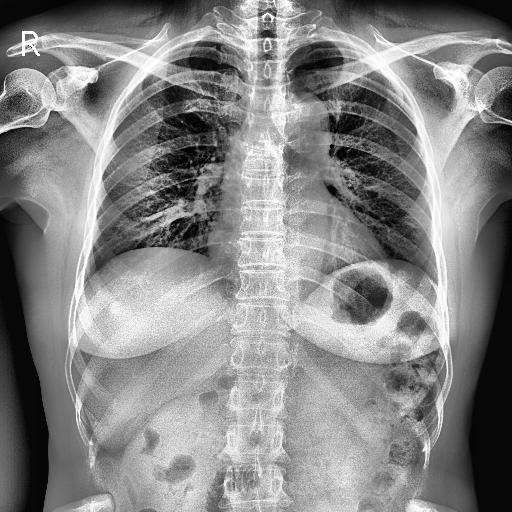0- Aortic enlargement: (276, 92, 332, 158), (276, 94, 330, 156), (288, 94, 332, 154)
